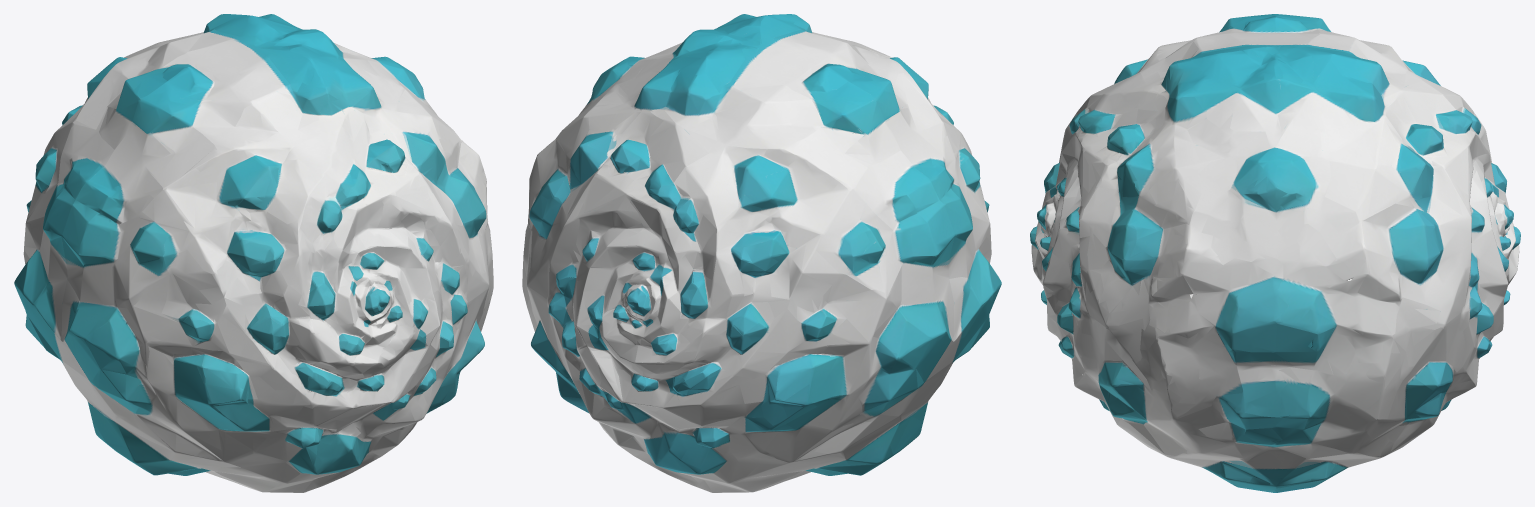
The model's file is snow-boulder.glb.
3 renders of one model, left to right at view 1: azimuth 30°, elevation 25°; view 2: azimuth 150°, elevation 25°; view 3: azimuth 270°, elevation 25°, orthographic.
Size of the model in its own units: 1.83 by 1.77 by 1.9.
1 material, 1 textured.
